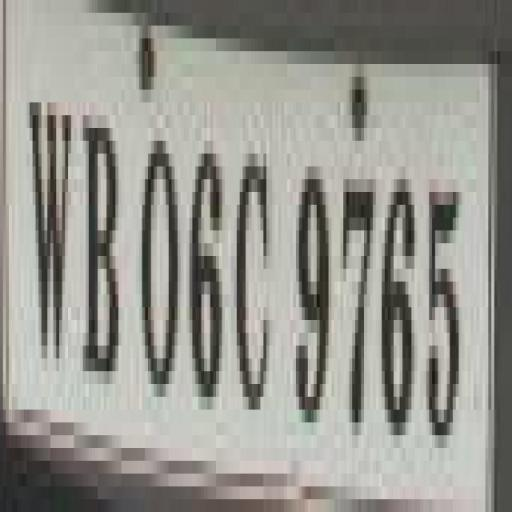number plate: (0, 25, 488, 512)
